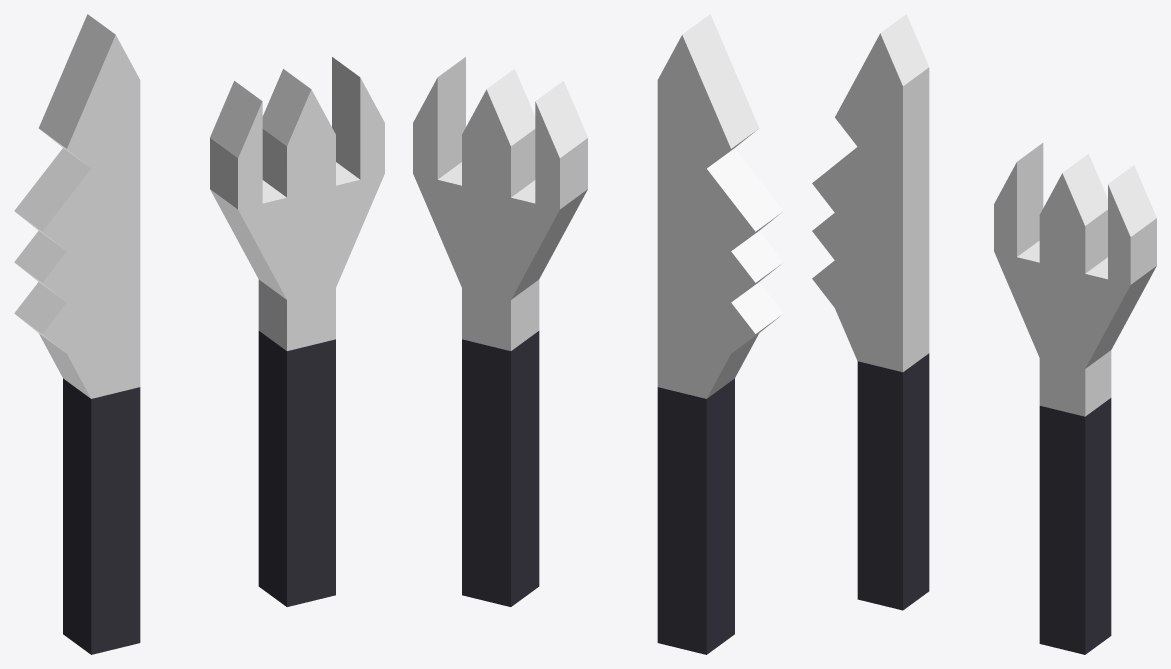
File: silverware.glb
The picture shows the model from 3 angles, left to right: view 1: azimuth 30°, elevation 25°; view 2: azimuth 150°, elevation 25°; view 3: azimuth 330°, elevation 25°; orthographic projection. The views are drawn at different scales.
Parts seen in each view (by area): view 1: generated(Clone); view 2: generated(Clone); view 3: generated(Clone).
Part boxes in pixels (bbox=[...]): generated(Clone): bbox=[14, 14, 384, 654]; generated(Clone): bbox=[413, 14, 783, 654]; generated(Clone): bbox=[812, 14, 1156, 654].
Bounding box in the file's own units: 3.5 × 6 × 0.5.
Materials: 1 (1 with a texture image).
